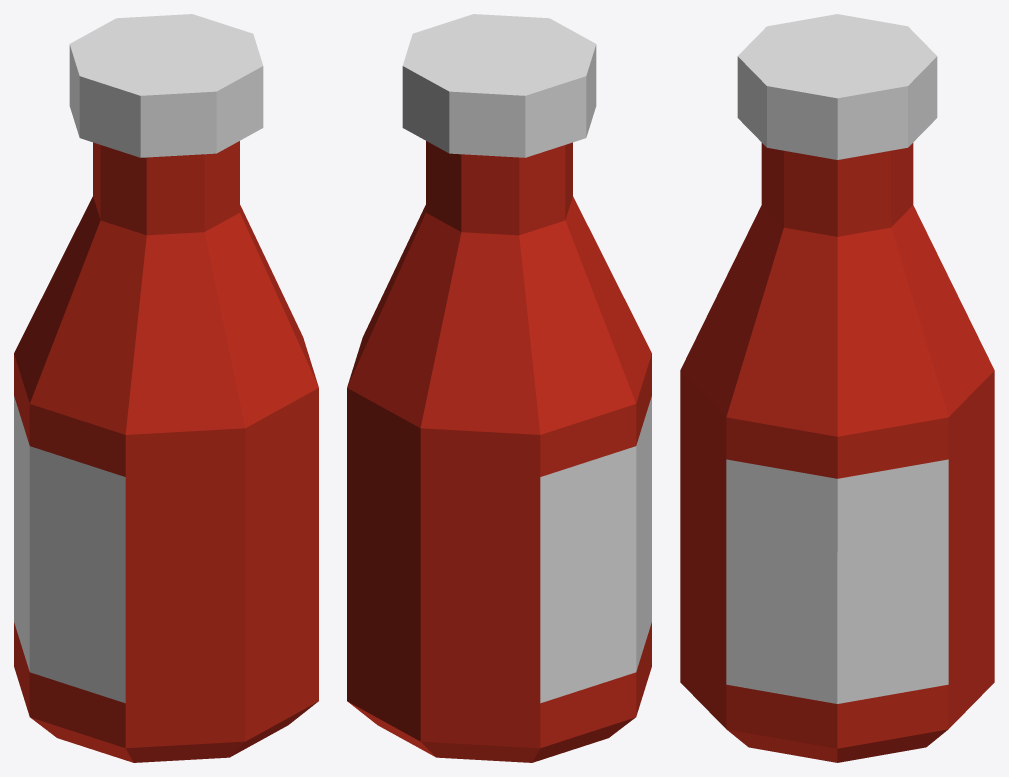
The model's file is ketchup.fbx.
3 renders of one model, left to right at view 1: azimuth 30°, elevation 25°; view 2: azimuth 150°, elevation 25°; view 3: azimuth 270°, elevation 25°, orthographic.
Parts seen in each view (by area): view 1: ketchup; view 2: ketchup; view 3: ketchup.
Boxes of the visible parts, x1,y1,x2,y2 form: ketchup: (14,14,318,762); ketchup: (347,14,651,762); ketchup: (680,14,994,762).
Size of the model in its own units: 25.01 by 57.37 by 25.01.
